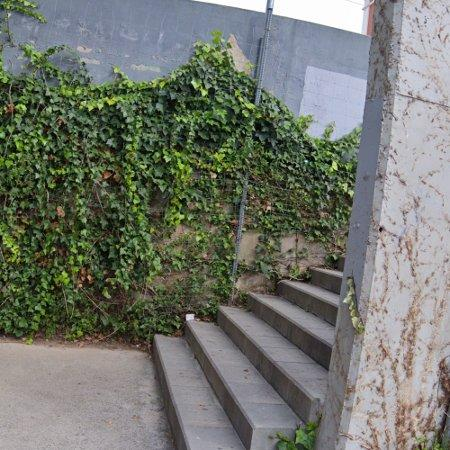stairs: (155, 269, 343, 450)
